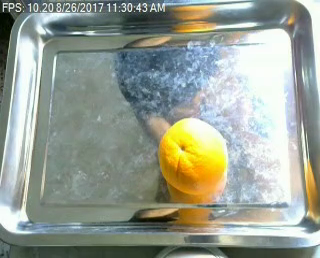Orange: (158, 117, 229, 191)
